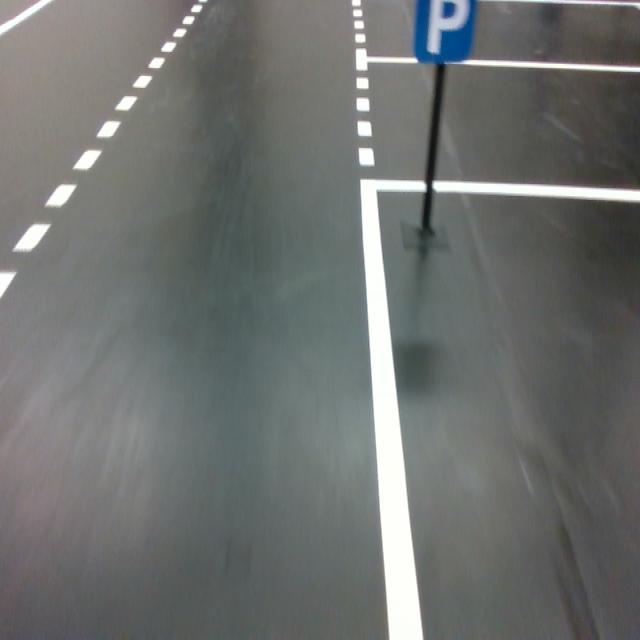parking-sign: (413, 0, 474, 62)
